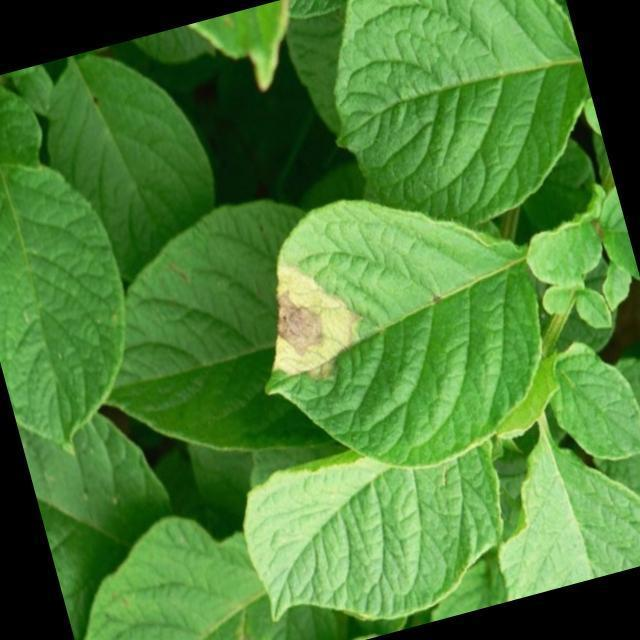Healthy Leaf: (231, 395, 540, 640), (306, 0, 613, 242), (0, 142, 160, 472), (537, 332, 640, 481)
